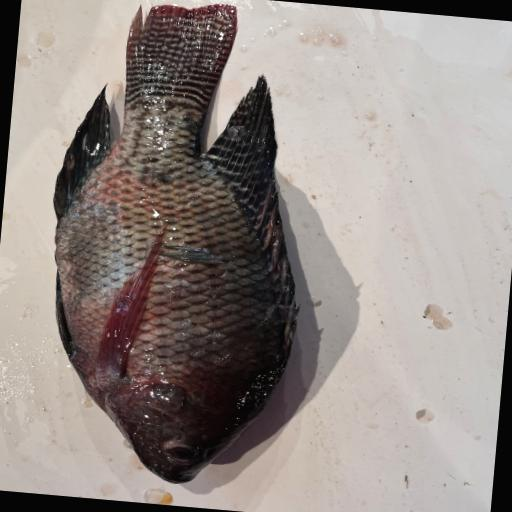Tilapia: (29, 0, 325, 493)
